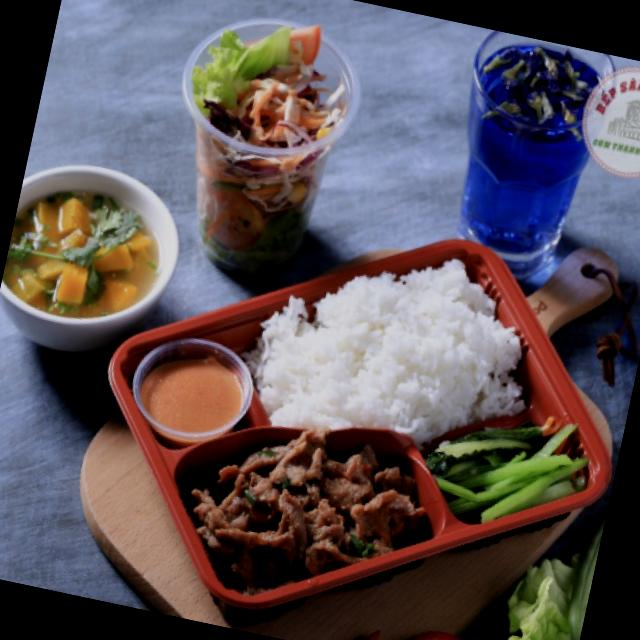bo xao: (186, 430, 429, 593)
canh bi do: (2, 193, 158, 316)
com: (242, 259, 525, 448)
rau: (425, 422, 586, 518)
